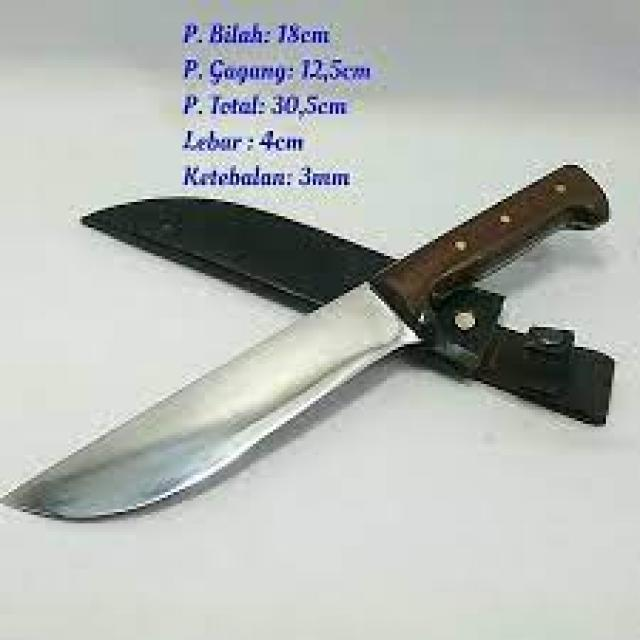knife: (9, 198, 608, 536)
